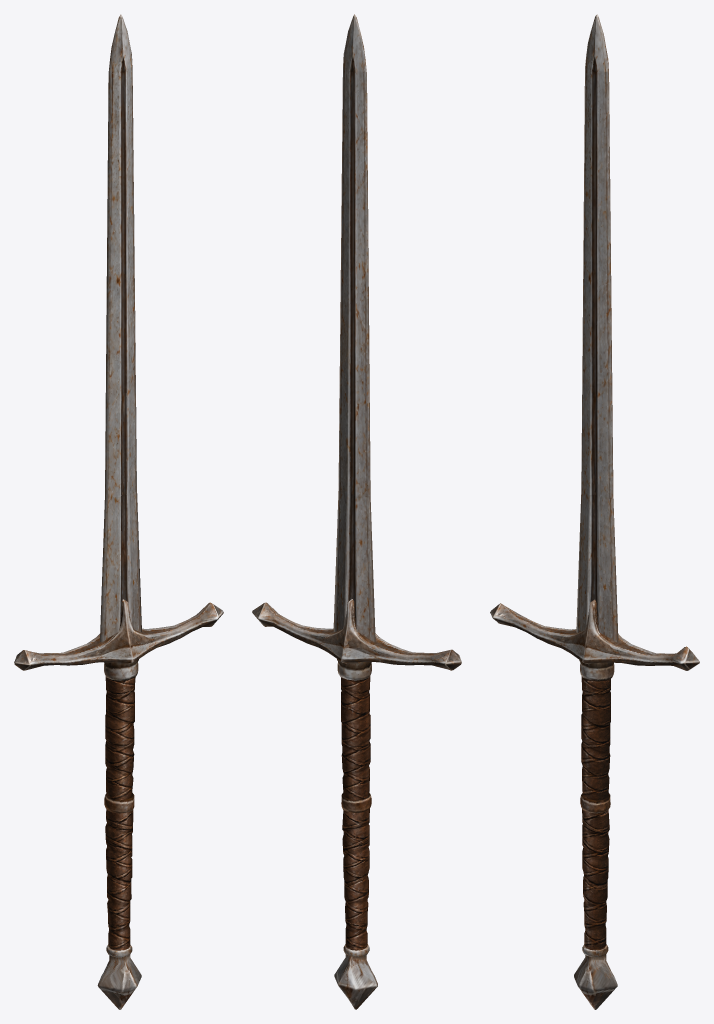
Rendered from SM_H2Longsword.fbx.
3 renders of one model, left to right at view 1: azimuth 30°, elevation 25°; view 2: azimuth 150°, elevation 25°; view 3: azimuth 330°, elevation 25°, orthographic.
Visible parts, largest first — view 1: SM_H2Longsword; view 2: SM_H2Longsword; view 3: SM_H2Longsword.
Boxes of the visible parts, bbox=[...] form: SM_H2Longsword: bbox=[14, 14, 223, 1009]; SM_H2Longsword: bbox=[252, 14, 461, 1009]; SM_H2Longsword: bbox=[490, 14, 699, 1009].
Size of the model in its own units: 25.14 by 115 by 5.54.
